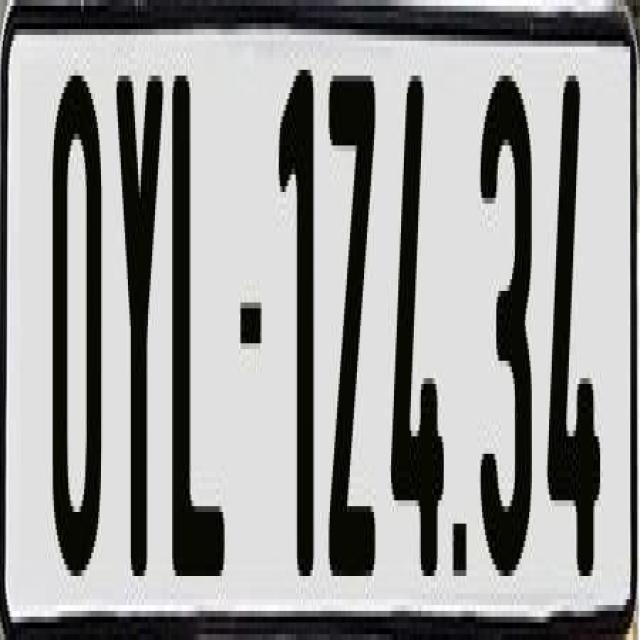0: (48, 70, 106, 588)
1: (278, 64, 314, 576)
3: (478, 64, 529, 570)
4: (546, 76, 600, 594), (388, 58, 441, 559)
L: (170, 58, 230, 588)
Y: (116, 64, 168, 582)
Z: (327, 58, 381, 594)
